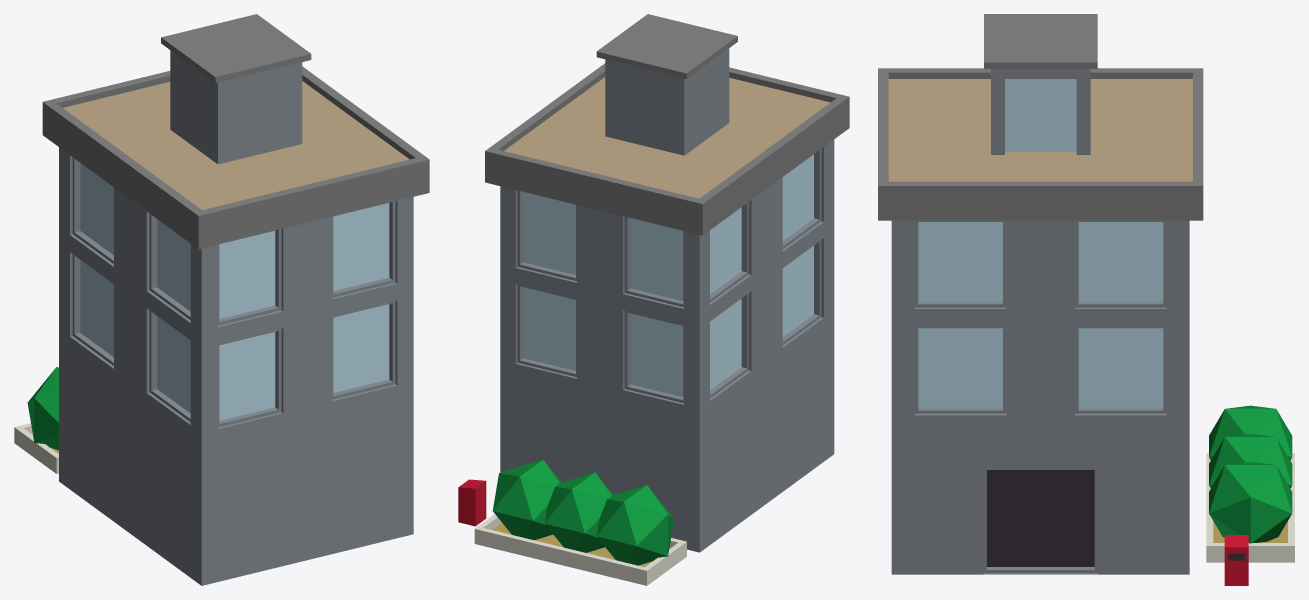
Rendered from 建筑物6.fbx.
The picture shows the model from 3 angles, left to right: view 1: azimuth 30°, elevation 25°; view 2: azimuth 150°, elevation 25°; view 3: azimuth 270°, elevation 25°; orthographic projection. The views are drawn at different scales.
Visible parts, largest first — view 1: 桶3_1; view 2: 桶3_1; view 3: 桶3_1.
Boxes of the visible parts, x1,y1,x2,y2 form: 桶3_1: (14, 14, 429, 585); 桶3_1: (458, 14, 849, 585); 桶3_1: (878, 14, 1294, 585).
Bounding box in the file's own units: 820 × 1531 × 1192.
